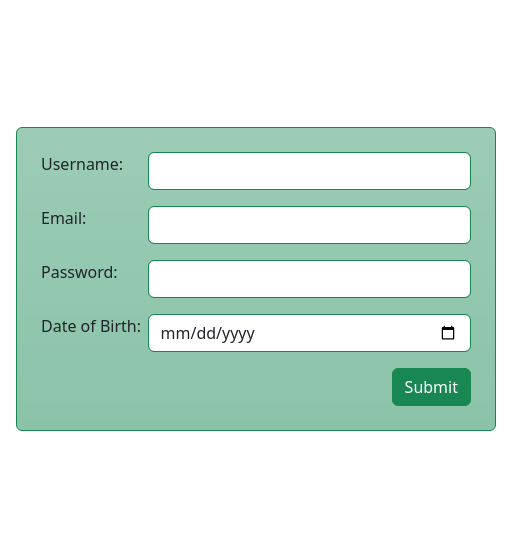
Test: Registration form functionality after correct data submission › displays submitted username, email and date of birth
Type "marius" into the field with test id "username" at (310, 171), box [148,152,472,190]
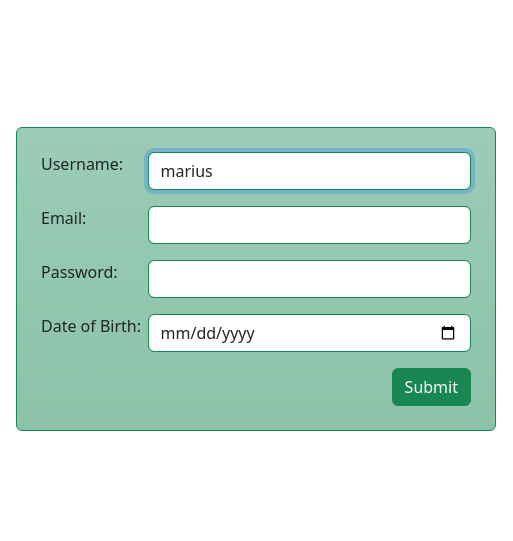
Type "marius@gmail.com" into the field with test id "email" at (310, 225), box [148,206,472,244]
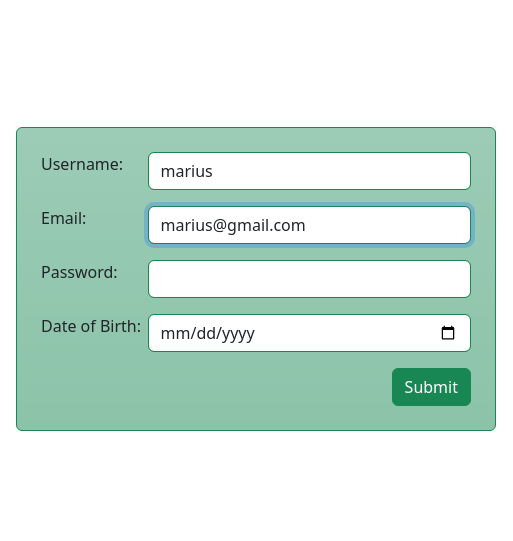
Type "mariuxas" into the password field with test id "password" at (310, 279), box [148,260,472,298]
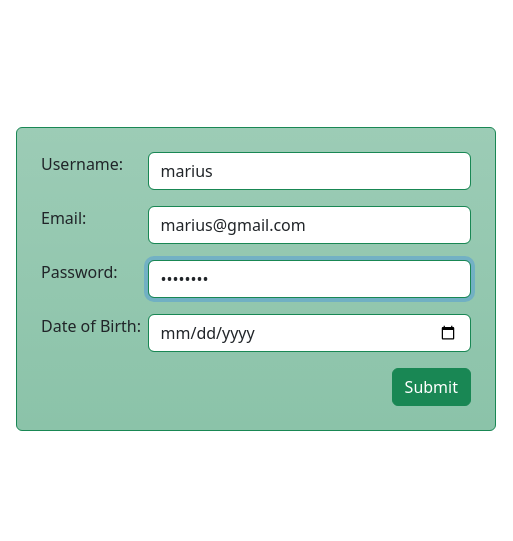
Type "1996-06-07" into the date field with test id "date-of-birth" at (310, 333), box [148,314,472,352]
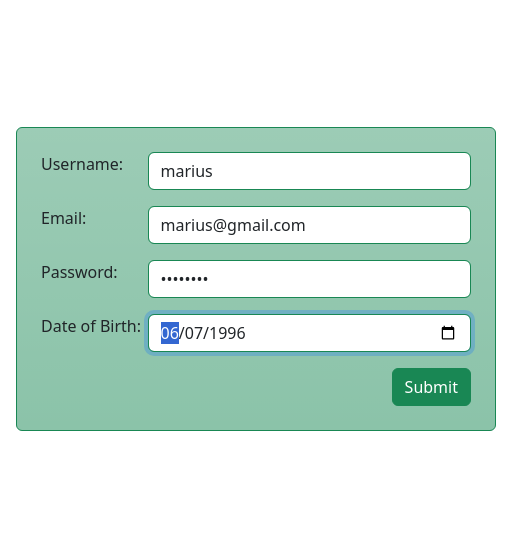
Click the button with test id "submit" at (432, 387), box [392,368,471,406]
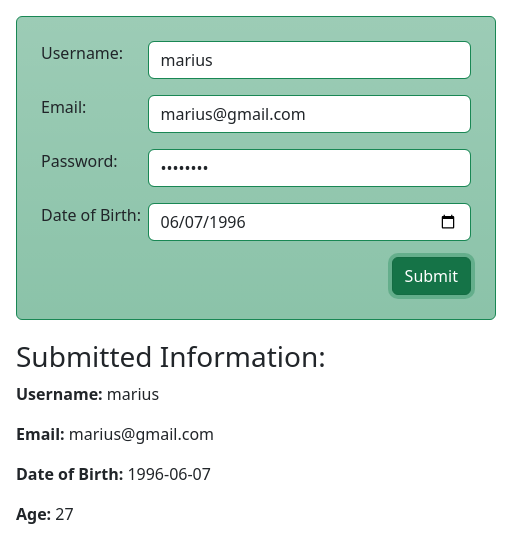
Expected: the text with test id "submitted-username" reads "marius", [107,383,159,405]
Expected: the text with test id "submitted-email" reads "marius@gmail.com", [69,423,214,445]
Expected: the text with test id "submitted-dob" reads "1996-06-07", [127,463,211,485]
